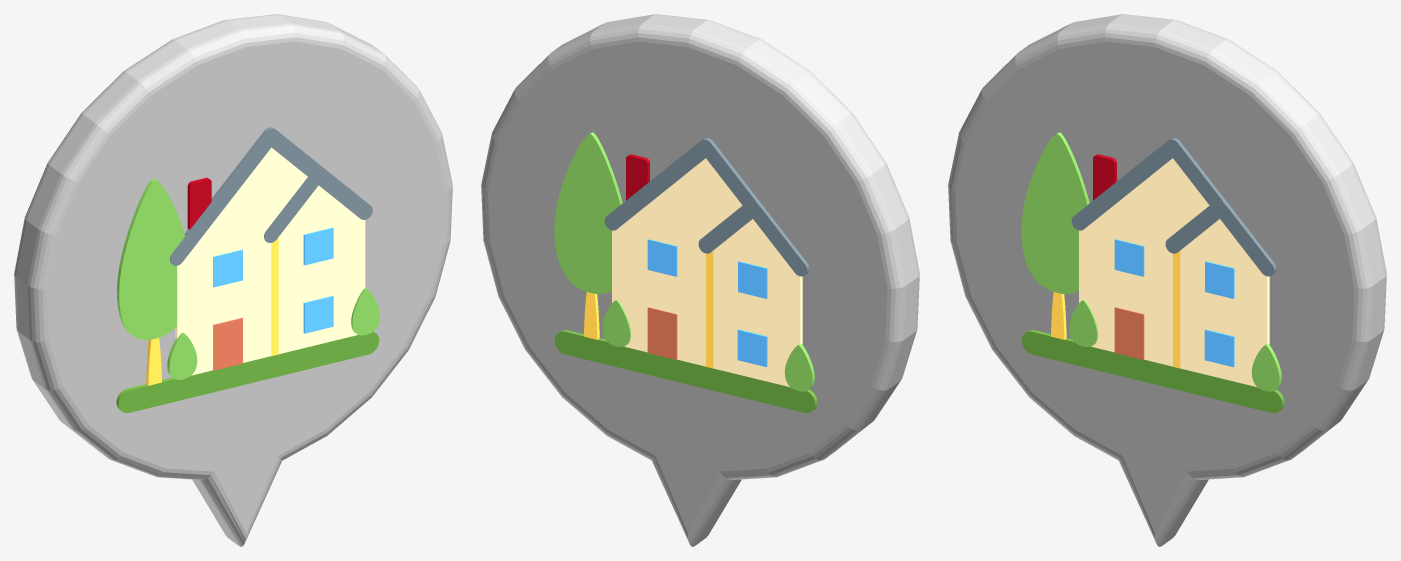
File: house_with_garden.glb
The picture shows the model from 3 angles, left to right: view 1: azimuth 30°, elevation 25°; view 2: azimuth 150°, elevation 25°; view 3: azimuth 330°, elevation 25°; orthographic projection.
Visible parts, largest first — view 1: EmotionBubble; view 2: EmotionBubble; view 3: EmotionBubble.
Boxes of the visible parts, x1,y1,x2,y2 form: EmotionBubble: (14, 14, 452, 546); EmotionBubble: (481, 14, 919, 546); EmotionBubble: (948, 14, 1386, 546).
Size of the model in its own units: 5.29 by 6.16 by 0.748.
